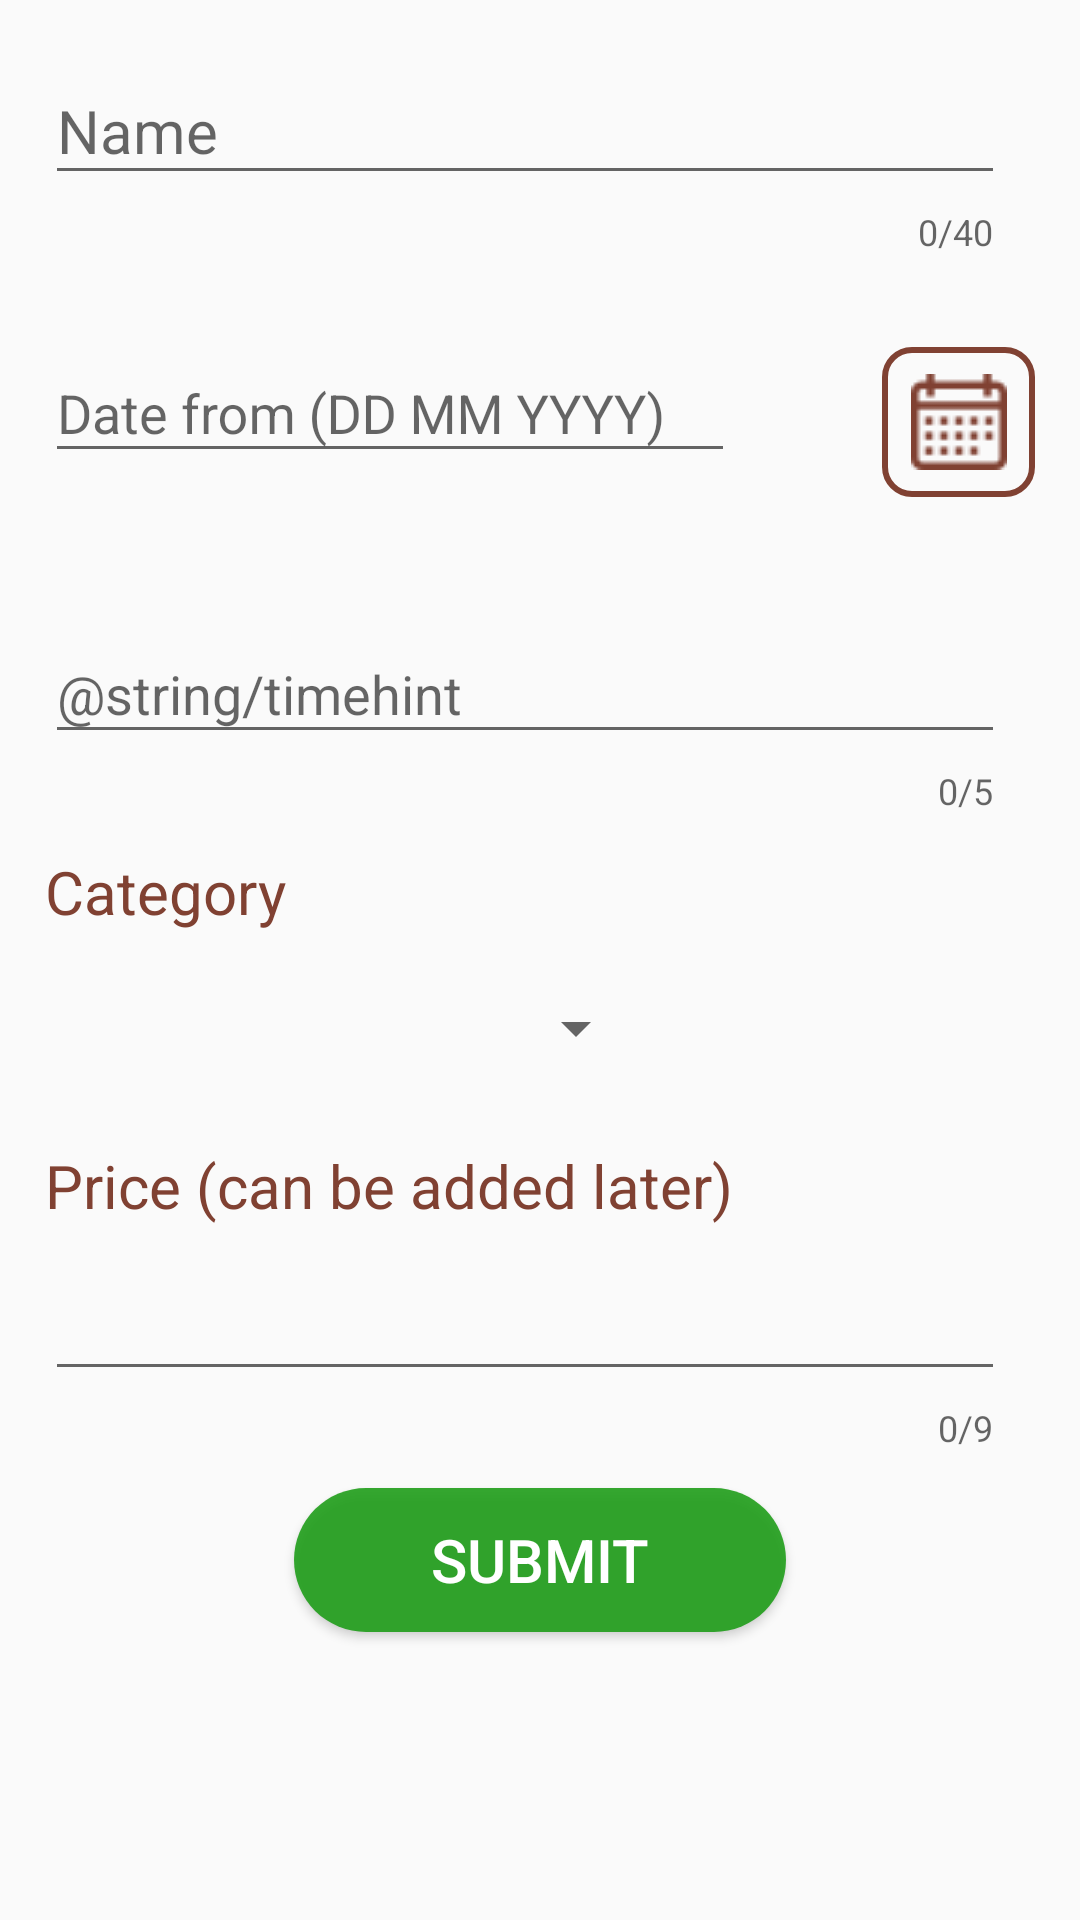

Icon bounding boxes for this 1080w x 1920h phone screenshot, format (x1, y1, x2, y2):
calendaricon: (882, 347, 1035, 497)
